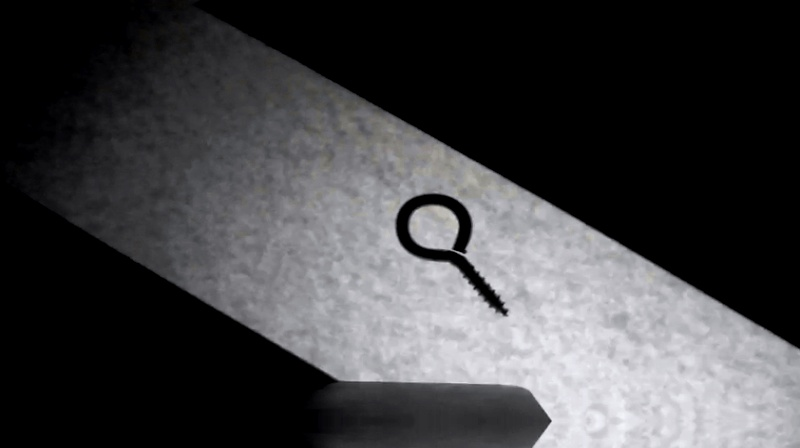O001: (391, 191, 511, 319)
